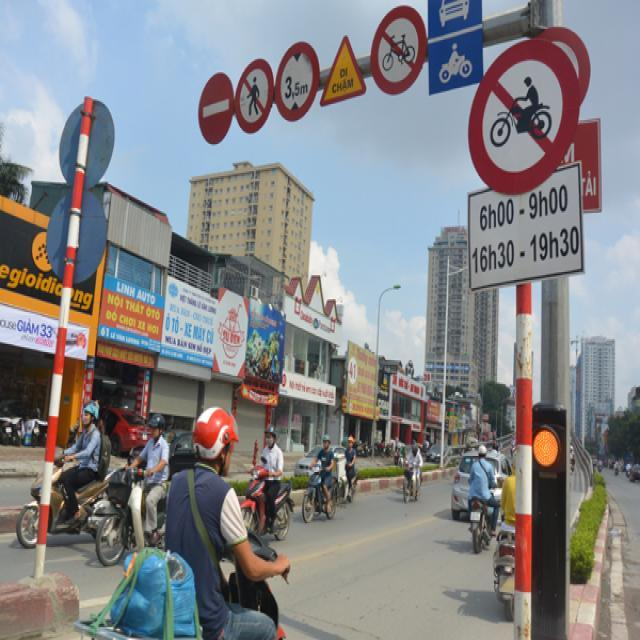bien_cam: (470, 37, 579, 196), (371, 2, 428, 94), (277, 42, 320, 124), (237, 57, 273, 135), (199, 70, 233, 146)
bien_chi_dan: (428, 0, 484, 96)
bien_nguy_hiem: (322, 36, 367, 106)
